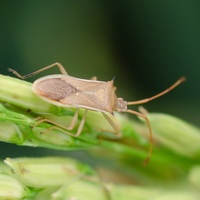insect: (8, 62, 185, 164)
